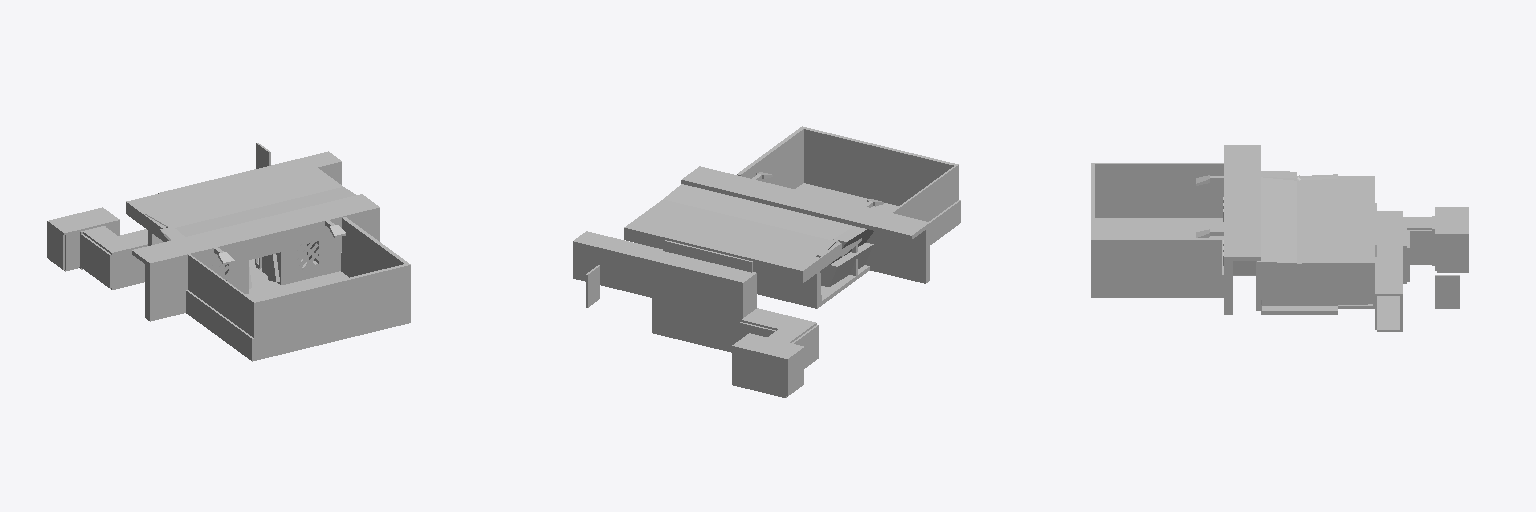
File: GGJ25.obj
3 views of the same model, side by side, from view 1: azimuth 30°, elevation 25°; view 2: azimuth 150°, elevation 25°; view 3: azimuth 270°, elevation 25° (orthographic).
Visible parts, largest first — view 1: entity0_brush16, entity0_brush99, entity0_brush5, entity0_brush2, entity0_brush98, entity0_brush17, entity0_brush100, entity0_brush4, entity0_brush56, entity0_brush106, entity0_brush0, entity0_brush82 (+10 smaller); view 2: entity0_brush16, entity0_brush75, entity0_brush5, entity0_brush99, entity0_brush17, entity0_brush40, entity0_brush2, entity0_brush105, entity0_brush100, entity0_brush98, entity0_brush78, entity0_brush82 (+14 smaller); view 3: entity0_brush16, entity0_brush100, entity0_brush98, entity0_brush5, entity0_brush17, entity0_brush0, entity0_brush3, entity0_brush4, entity0_brush24, entity0_brush40, entity0_brush103, entity0_brush106 (+5 smaller).
Boxes of the visible parts, <box> form: entity0_brush16: <box>126,158,342,241</box>; entity0_brush99: <box>252,264,406,337</box>; entity0_brush5: <box>132,194,379,267</box>; entity0_brush2: <box>250,300,410,356</box>; entity0_brush98: <box>188,254,252,335</box>; entity0_brush17: <box>165,187,355,241</box>; entity0_brush100: <box>342,217,410,300</box>; entity0_brush4: <box>186,290,251,354</box>; entity0_brush56: <box>81,234,111,288</box>; entity0_brush106: <box>47,207,119,235</box>; entity0_brush0: <box>186,271,348,352</box>; entity0_brush82: <box>145,268,211,304</box>; entity0_brush16: <box>624,199,841,283</box>; entity0_brush75: <box>652,263,738,352</box>; entity0_brush5: <box>681,166,929,239</box>; entity0_brush99: <box>804,127,958,200</box>; entity0_brush17: <box>664,184,861,256</box>; entity0_brush40: <box>573,231,750,283</box>; entity0_brush2: <box>804,164,960,219</box>; entity0_brush105: <box>734,348,785,395</box>; entity0_brush100: <box>737,126,805,184</box>; entity0_brush98: <box>891,166,956,221</box>; entity0_brush78: <box>573,243,619,289</box>; entity0_brush82: <box>866,232,929,266</box>; entity0_brush16: <box>1297,176,1374,275</box>; entity0_brush100: <box>1091,238,1221,274</box>; entity0_brush98: <box>1095,163,1223,199</box>; entity0_brush5: <box>1224,145,1260,260</box>; entity0_brush17: <box>1256,177,1296,277</box>; entity0_brush0: <box>1114,218,1223,297</box>; entity0_brush3: <box>1095,273,1223,293</box>; entity0_brush4: <box>1095,200,1222,217</box>; entity0_brush24: <box>1261,276,1337,305</box>; entity0_brush40: <box>1375,213,1402,295</box>; entity0_brush103: <box>1437,236,1468,270</box>; entity0_brush106: <box>1435,207,1468,235</box>.
Size of the model in its own units: 1080 by 352 by 1320.